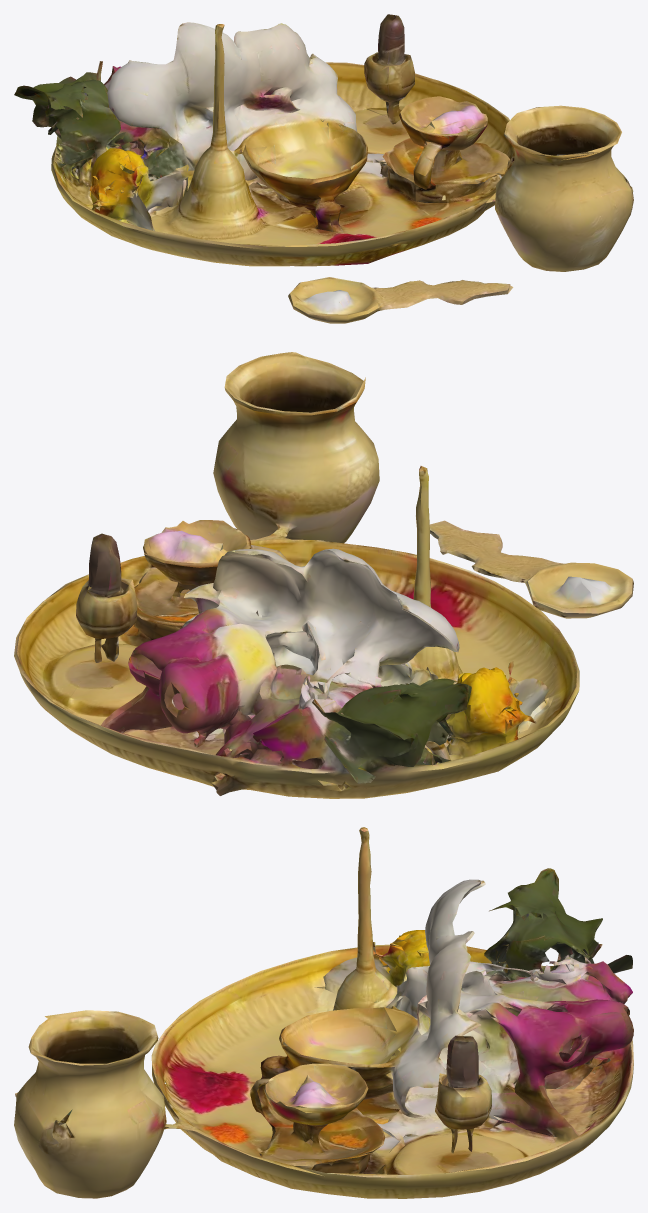
3 views of the same model, one above another, from view 1: azimuth 30°, elevation 25°; view 2: azimuth 150°, elevation 25°; view 3: azimuth 270°, elevation 25° (orthographic). The views are drawn at different scales.
Visible parts, largest first — view 1: Object_4; view 2: Object_4; view 3: Object_4.
Boxes of the visible parts, box(x1,y1,x2,y2) form: Object_4: box(14, 14, 633, 323); Object_4: box(14, 352, 633, 798); Object_4: box(14, 827, 633, 1198).
Bounding box in the file's own units: 1.75 × 0.8341 × 1.98.
1 material, 1 textured.
